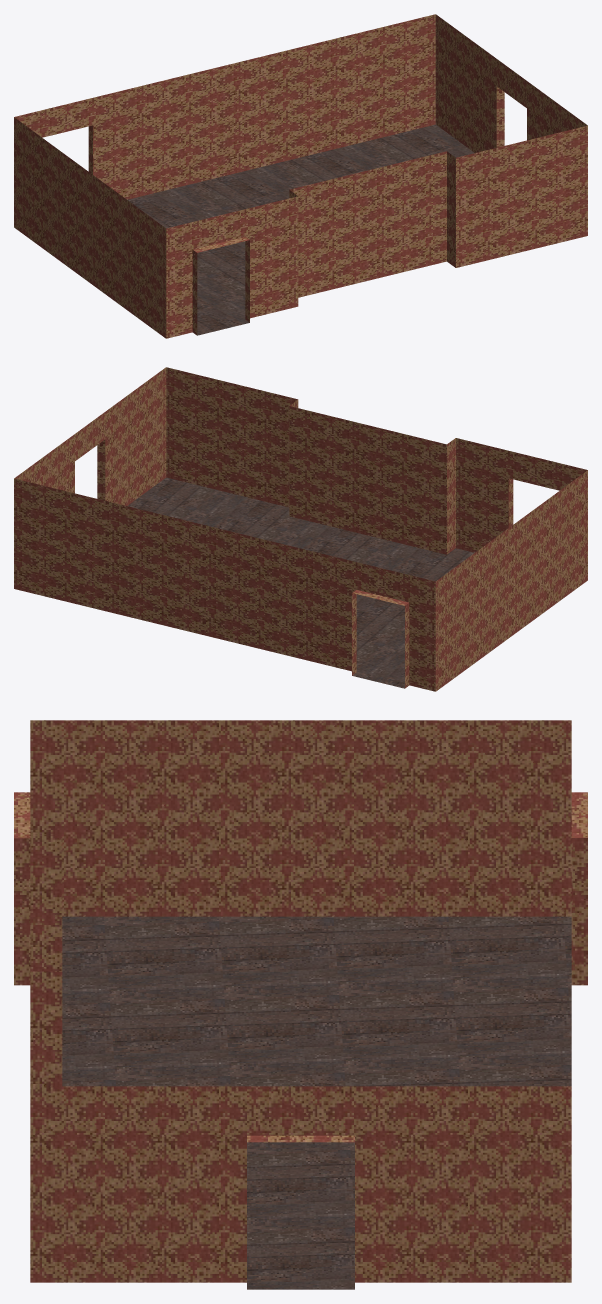
The model's file is room1.glb.
3 renders of one model, top to bottom at view 1: azimuth 30°, elevation 25°; view 2: azimuth 150°, elevation 25°; view 3: azimuth 270°, elevation 25°, orthographic. The views are drawn at different scales.
Visible parts, largest first — view 1: room1; view 2: room1; view 3: room1.
Boxes of the visible parts, bbox=[...] form: room1: bbox=[14, 14, 587, 338]; room1: bbox=[14, 367, 587, 691]; room1: bbox=[14, 720, 587, 1289].
Size of the model in its own units: 16.3 by 4 by 10.6.
2 materials, 2 textured.
